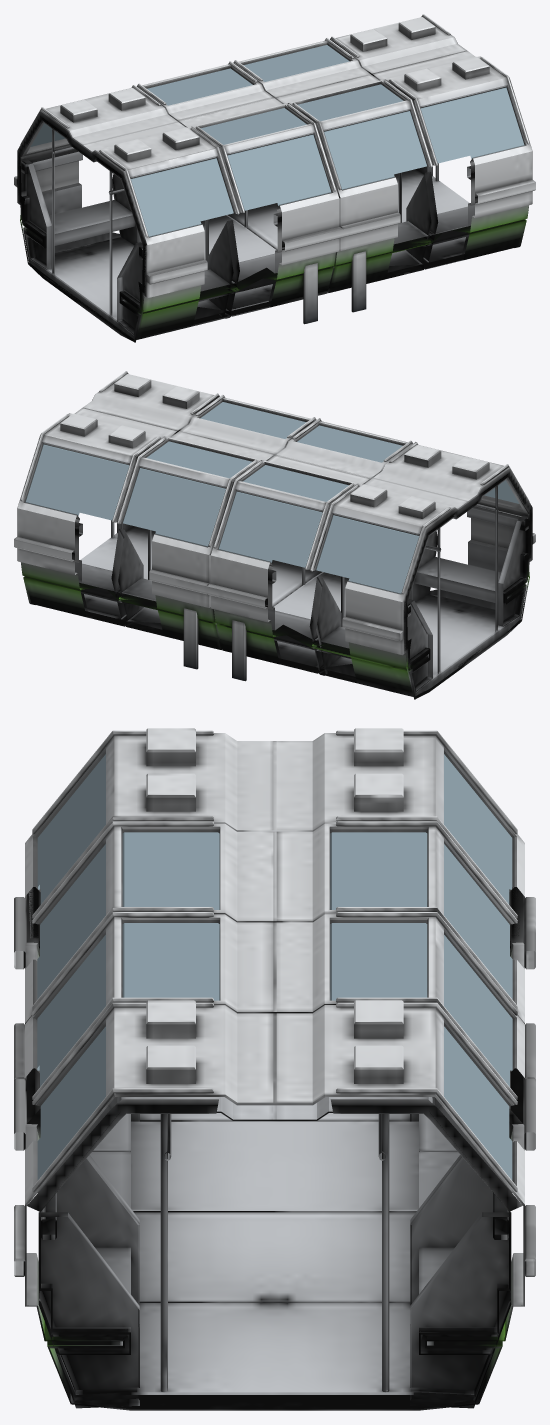
File: train_car.glb
3 views of the same model, one above another, from view 1: azimuth 30°, elevation 25°; view 2: azimuth 150°, elevation 25°; view 3: azimuth 270°, elevation 25° (orthographic). The views are drawn at different scales.
Bounding box in the file's own units: 12 × 5.56 × 7.3.
Materials: 2 (1 with a texture image).
